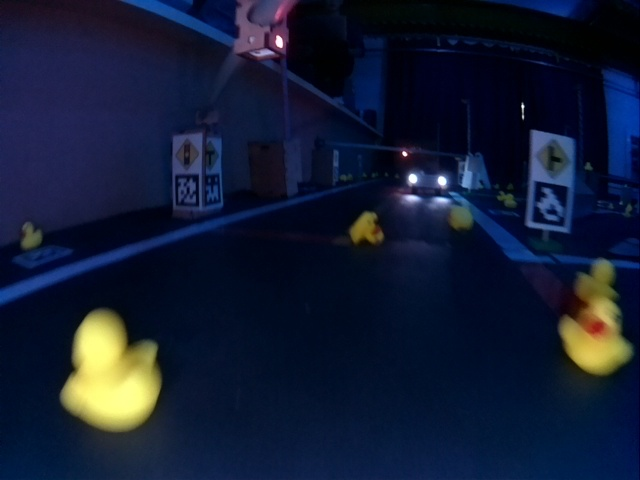Duckie: (63, 312, 162, 421), (559, 300, 629, 371), (575, 259, 618, 300), (351, 212, 384, 245), (447, 205, 475, 230), (22, 225, 41, 248), (504, 194, 517, 207)
Duckiebot: (408, 168, 446, 192)
Intersection sign: (530, 130, 569, 180), (203, 136, 220, 171)
QR code: (529, 181, 571, 232), (13, 246, 67, 267), (174, 174, 199, 209), (204, 176, 223, 206)
Signal sign: (173, 137, 199, 171)
Traffic light: (234, 0, 287, 62), (401, 148, 408, 157)
